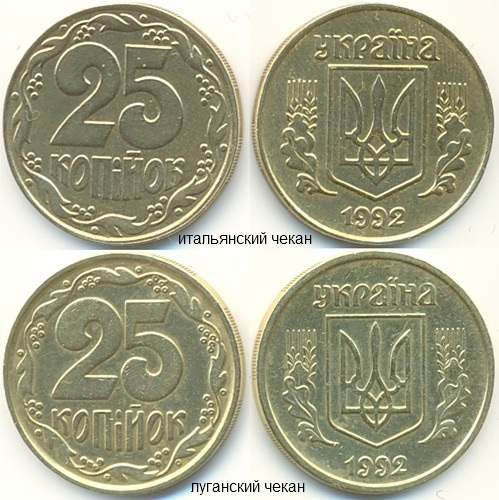coin_25: (6, 252, 244, 500), (0, 0, 238, 248), (256, 0, 493, 248), (255, 248, 492, 495)
